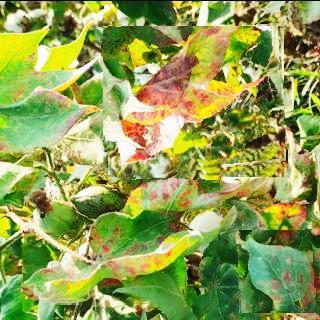blight: (24, 149, 220, 304), (103, 25, 286, 179), (236, 229, 317, 311)
